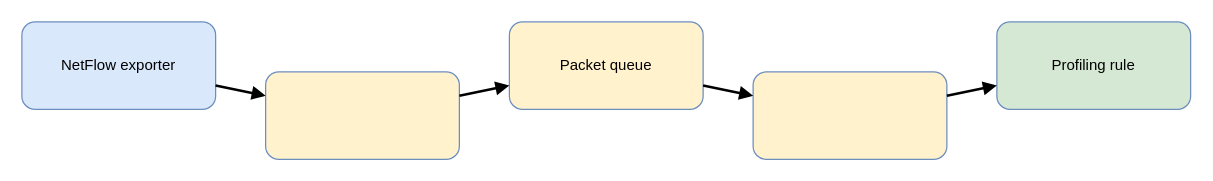
The diagram is 1213 pixels wide and 181 high, and some of its shapes have lost their labels. Here are the shapes that lost their labels. From the top down, the centre of each, then its label:
At point 361,115: "UDP 2055 listener".
At point 849,115: "Network Sessions".
